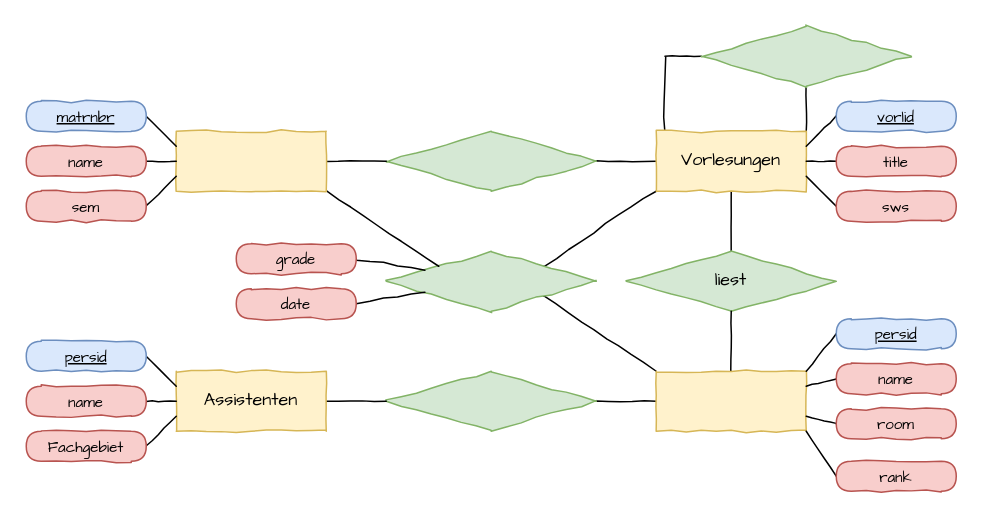
The diagram is 983 pixels wide and 518 high, and some of its shapes have lost their labels. Here are the shapes that lost their labels. From the top down, the centre of each, then its label:
(x=805, y=55): setzt_voraus
(x=250, y=160): Studenten
(x=490, y=160): hört
(x=490, y=280): prüft
(x=490, y=400): arbeitet_fuer
(x=730, y=400): Professoren
